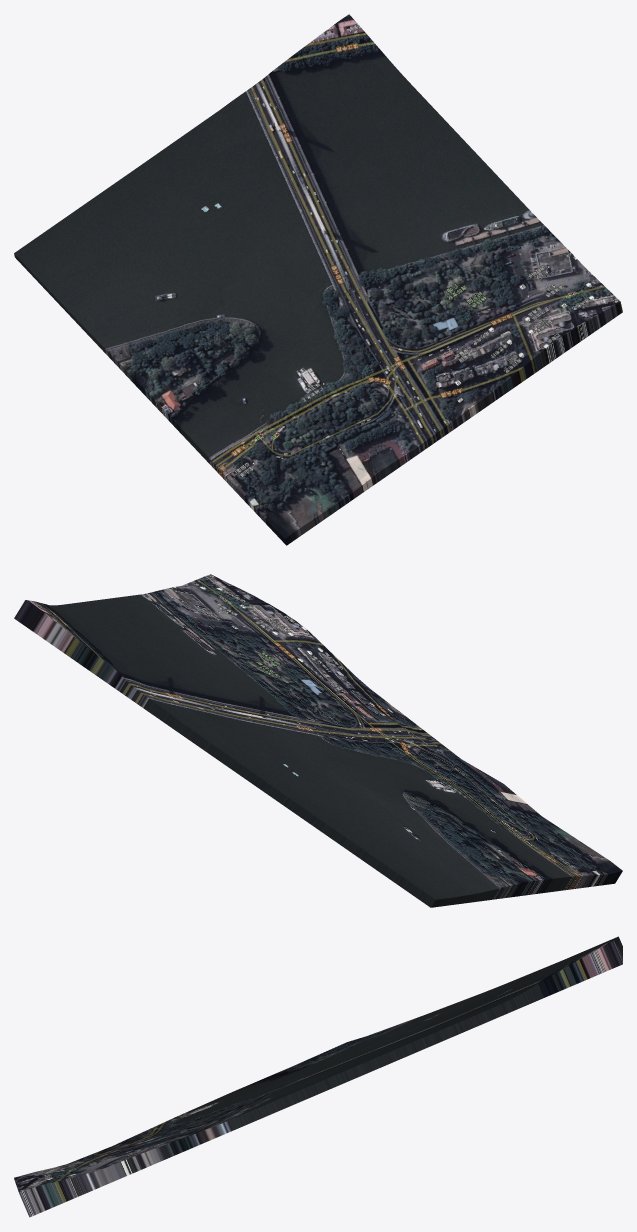
3 renders of one model, top to bottom at view 1: azimuth 30°, elevation 25°; view 2: azimuth 150°, elevation 25°; view 3: azimuth 270°, elevation 25°, orthographic. The views are drawn at different scales.
Parts seen in each view (by area): view 1: 0_12_15; view 2: 0_12_15; view 3: 0_12_15.
Boxes of the visible parts, x1,y1,x2,y2 form: 0_12_15: (14,14,622,545); 0_12_15: (14,574,622,907); 0_12_15: (14,936,622,1217).
Size of the model in its own units: 596 by 448 by 556.
1 material, 1 textured.
